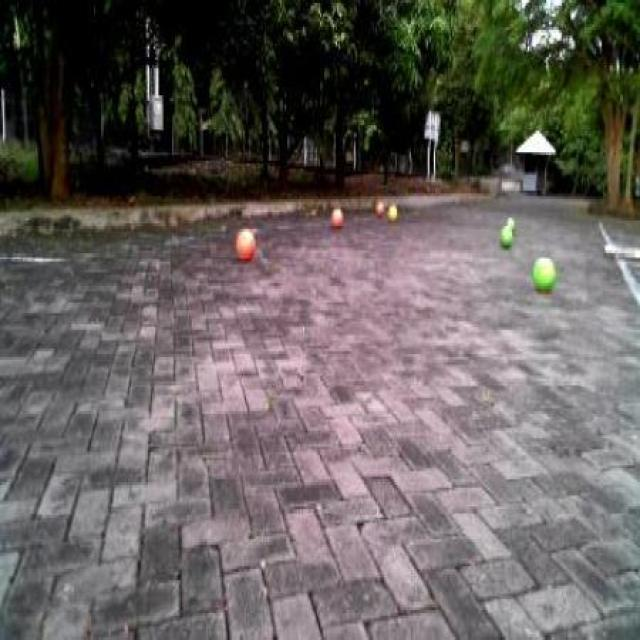buoy: (528, 244, 561, 304), (229, 211, 260, 271), (323, 192, 351, 236), (495, 212, 518, 253), (382, 192, 403, 230), (369, 185, 385, 215)
